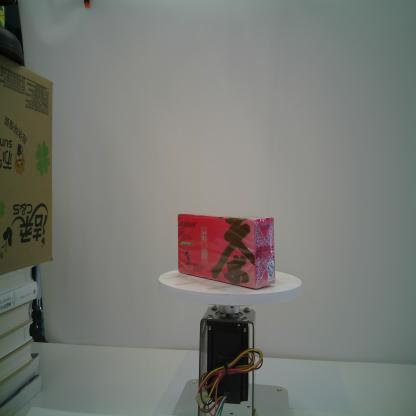Instant Drink: (177, 212, 276, 290)
